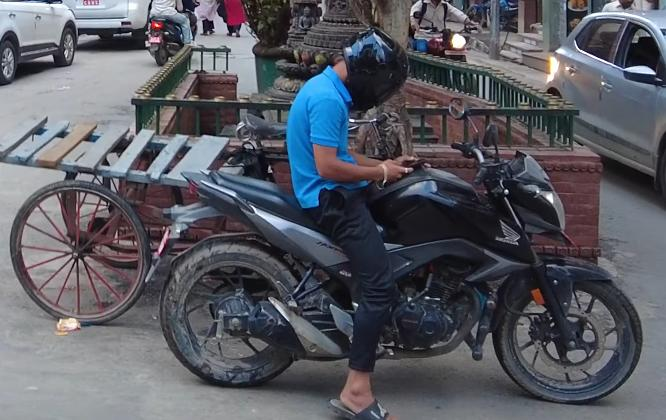bike: (141, 104, 645, 420)
